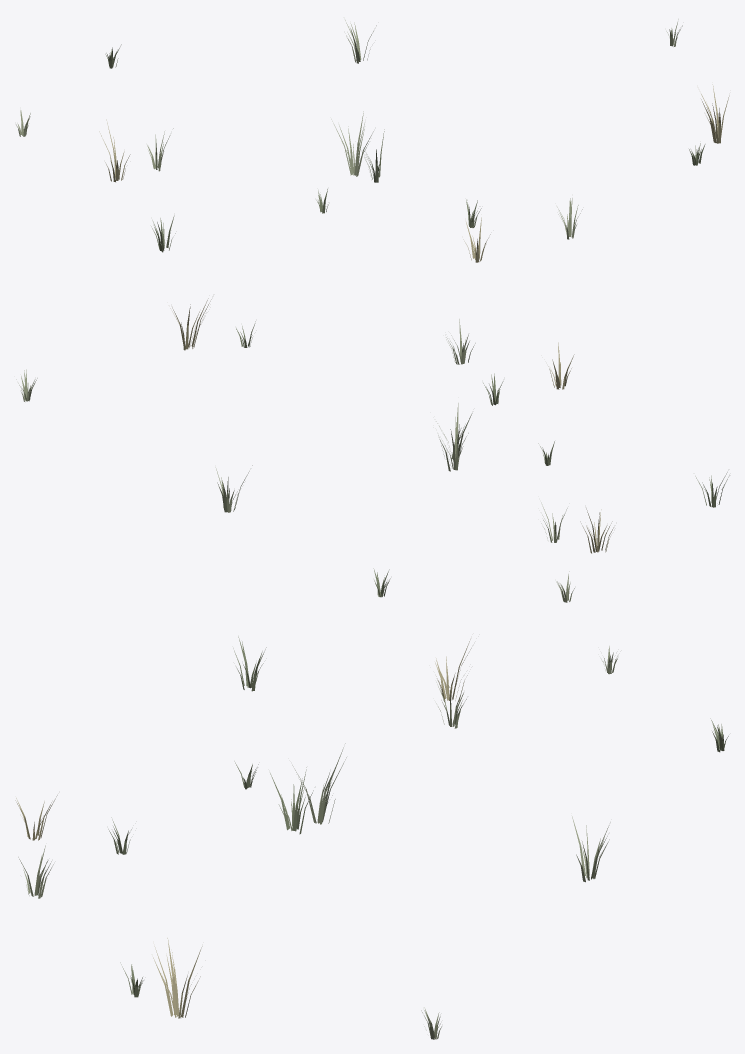
File: AE_Grass_3_-4.fbx
3 views of the same model, one above another, from view 1: azimuth 30°, elevation 25°; view 2: azimuth 150°, elevation 25°; view 3: azimuth 270°, elevation 25° (orthographic). The views are drawn at different scales.
Visible parts, largest first — view 1: AE_Grass_3_-4_LOD0; view 2: AE_Grass_3_-4_LOD0; view 3: AE_Grass_3_-4_LOD0.
Part boxes in pixels (bbox=[...]): AE_Grass_3_-4_LOD0: bbox=[16, 19, 729, 262]; AE_Grass_3_-4_LOD0: bbox=[16, 298, 729, 602]; AE_Grass_3_-4_LOD0: bbox=[15, 636, 728, 1039].
Size of what is drawn, in the model's own units: 1108 by 114 by 888.
